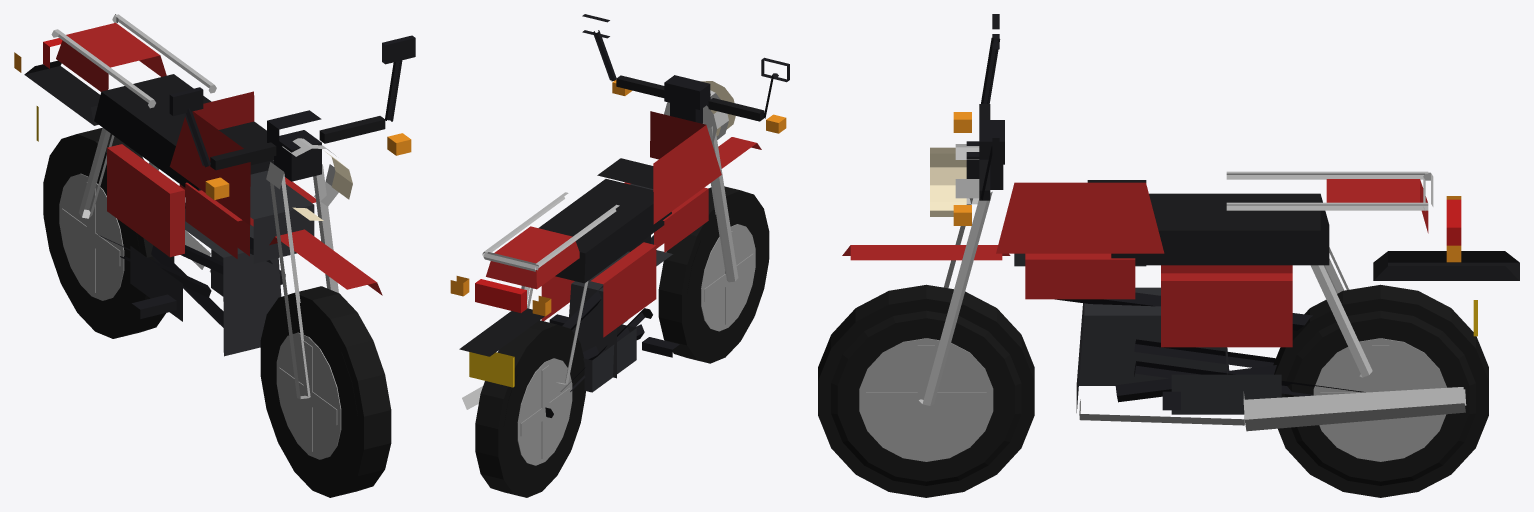
The model's file is motorbike.glb.
3 renders of one model, left to right at view 1: azimuth 30°, elevation 25°; view 2: azimuth 150°, elevation 25°; view 3: azimuth 270°, elevation 25°, orthographic. The views are drawn at different scales.
Visible parts, largest first — view 1: body, wheel_f, wheel_r; view 2: body, wheel_r, wheel_f; view 3: body, wheel_f, wheel_r.
Boxes of the visible parts, box(x1,y1,x2,y2) form: body: box(14, 14, 415, 398); wheel_f: box(260, 286, 391, 497); wheel_r: box(43, 128, 174, 338); body: box(450, 14, 789, 417); wheel_r: box(475, 320, 585, 497); wheel_f: box(658, 186, 769, 363); body: box(842, 14, 1519, 431); wheel_f: box(818, 284, 1034, 497); wheel_r: box(1273, 284, 1488, 497).
Size of the model in its own units: 0.8 by 1.25 by 1.92.
